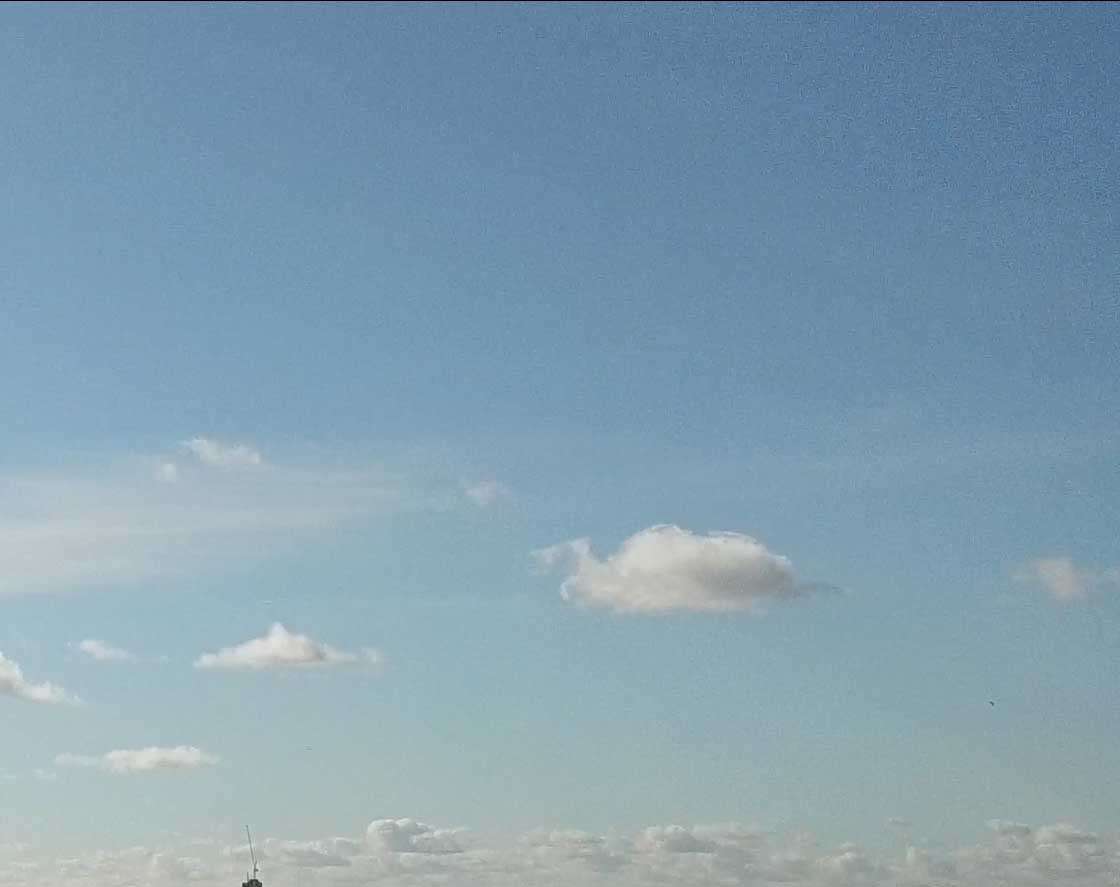cloud: (3, 431, 493, 575), (521, 516, 848, 610), (181, 614, 399, 691), (989, 539, 1120, 617)
